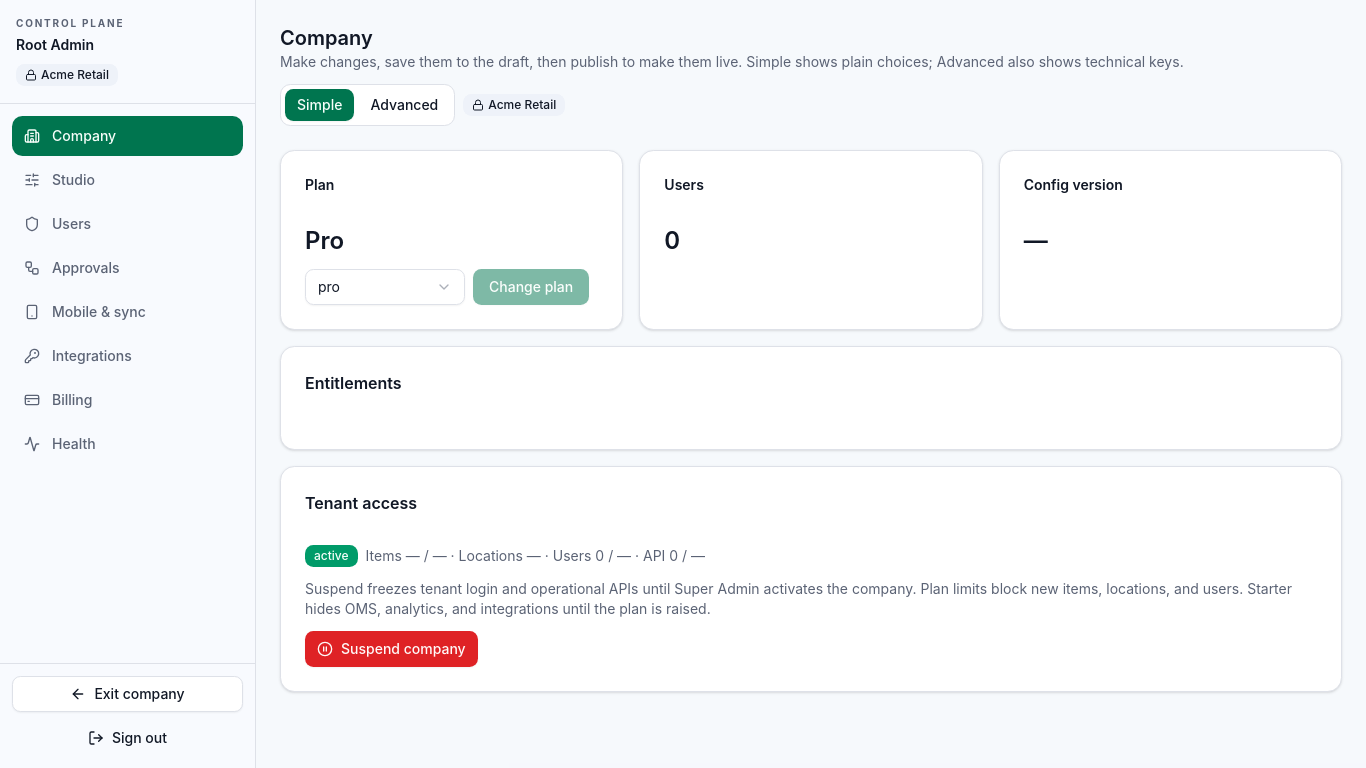
locked session renders the workspace nav and switches sections
Expected: the button "Company" is shown, [12,116,243,156]
Expected: the button "Studio" is shown, [12,160,243,200]
Click the button "Billing" at (128, 400), box [12,380,243,420]
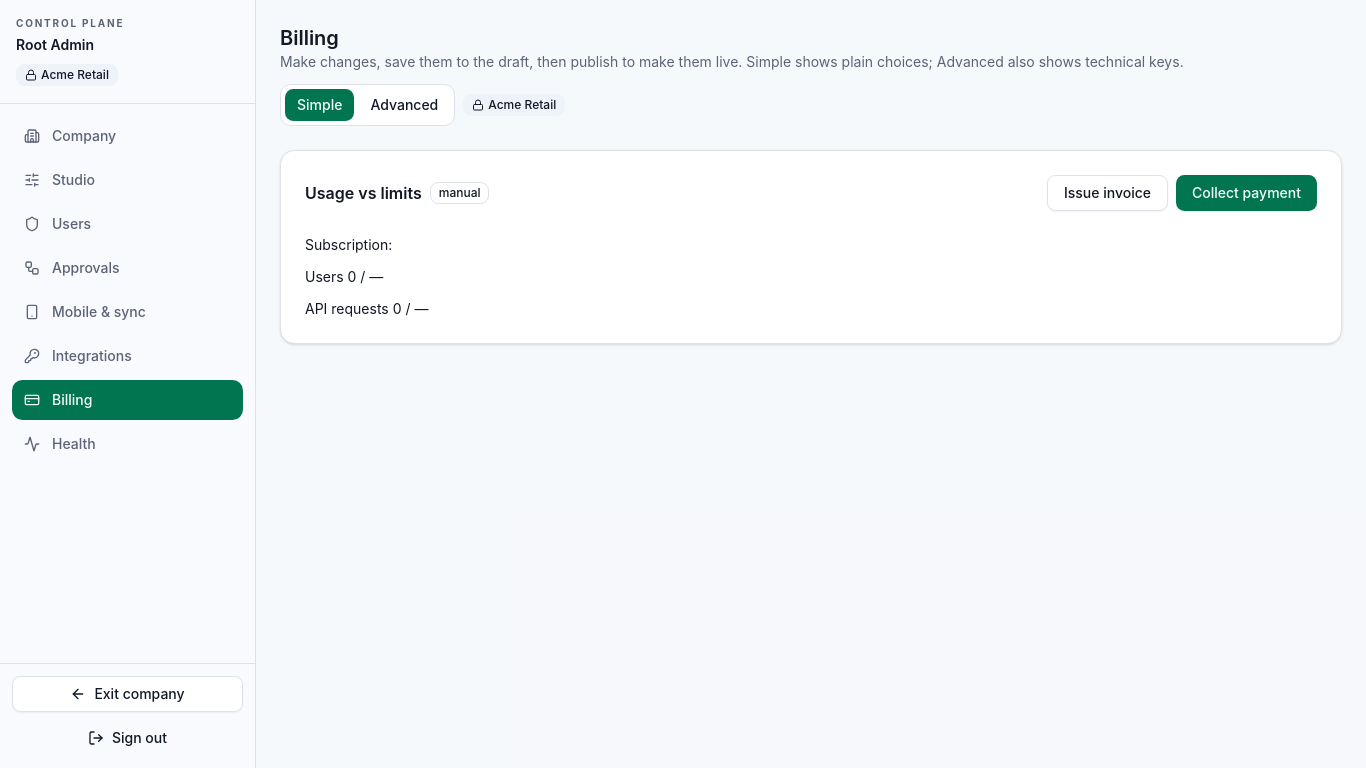
Now the text "Usage vs limits" is shown, box [305,181,422,205]
